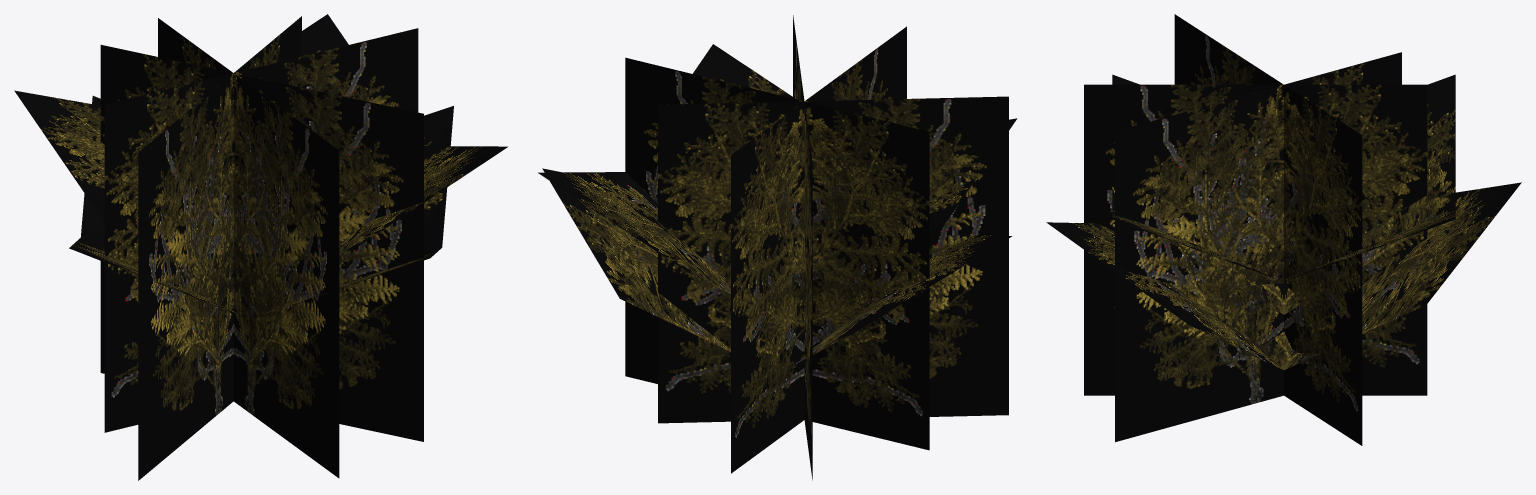
Rendered from generic_plant_b.dae.
3 views of the same model, side by side, from view 1: azimuth 30°, elevation 25°; view 2: azimuth 150°, elevation 25°; view 3: azimuth 270°, elevation 25° (orthographic). The views are drawn at different scales.
Parts seen in each view (by area): view 1: Planta.001; view 2: Planta.001; view 3: Planta.001.
Boxes of the visible parts, left/top/right/bottom form: Planta.001: left=14, top=14, right=507, bottom=480; Planta.001: left=538, top=15, right=1017, bottom=480; Planta.001: left=1046, top=14, right=1521, bottom=445.
Bounding box in the file's own units: 4.43 × 4.43 × 3.19.
